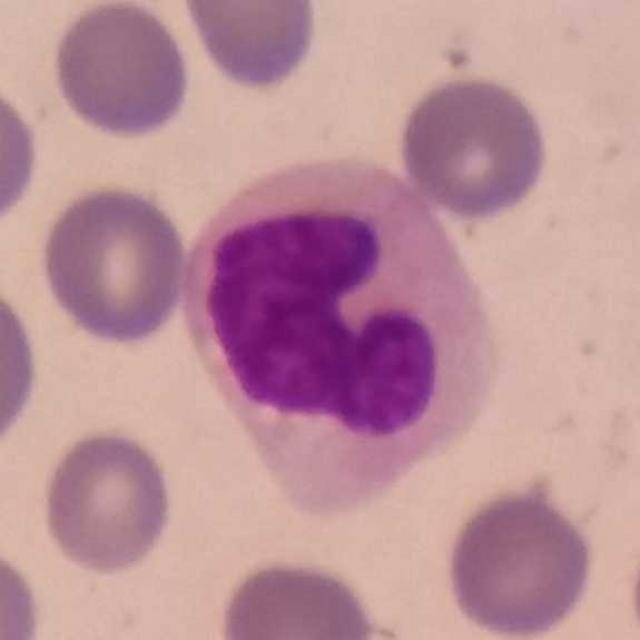Monocyte: (180, 161, 499, 517)
RBC: (36, 180, 192, 348), (441, 477, 599, 640), (394, 70, 554, 224), (37, 424, 178, 579), (47, 0, 196, 142), (214, 552, 382, 640), (177, 0, 324, 93), (0, 272, 43, 458), (0, 72, 45, 238), (0, 541, 46, 640)
